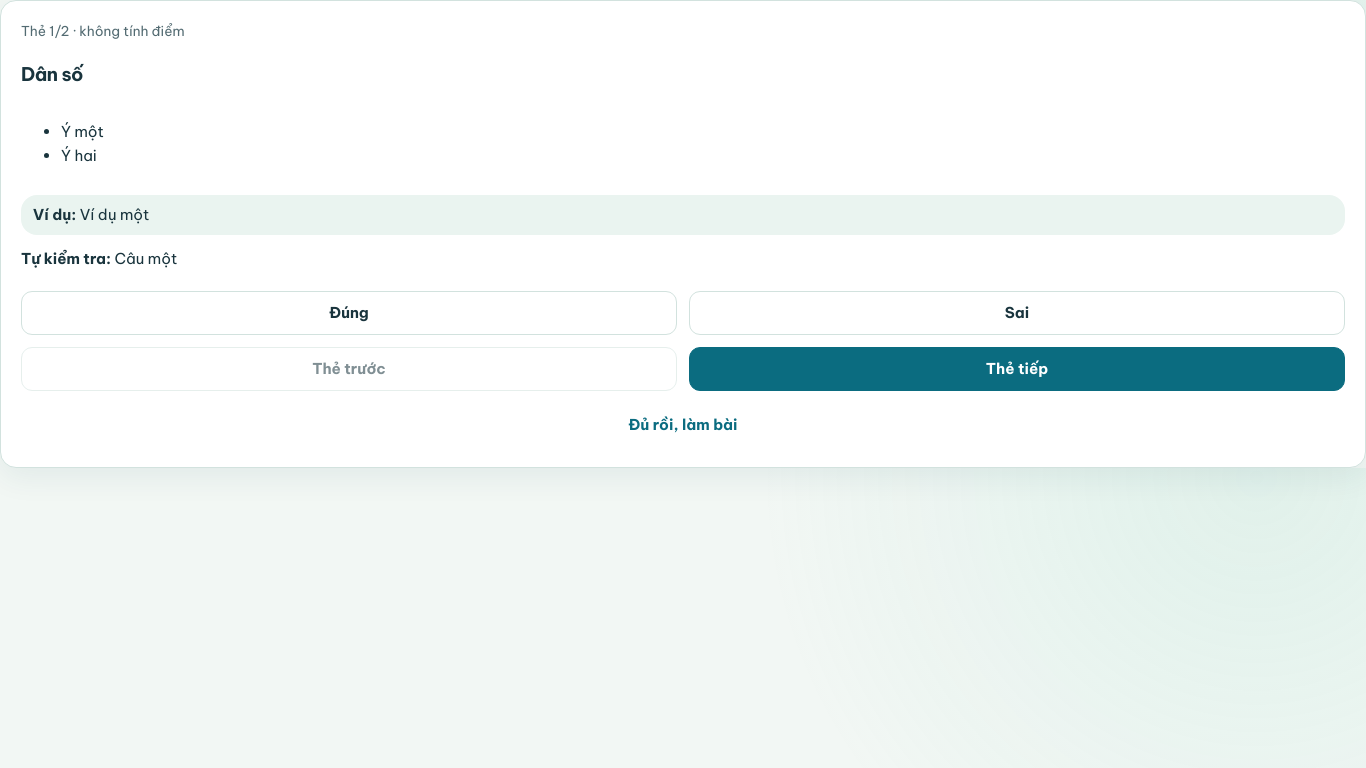
Test case: Quick review before the quiz › saves seen cards and the self-check result with an immediate explanation, then opens the quiz on 'Đủ rồi'
Later steps or results of the test are not shown.
Expected: the text "Thẻ 1/2 · không tính điểm" is shown, [21,22,185,40]
Click the button "Đúng" at (349, 313), box [21,291,677,335]
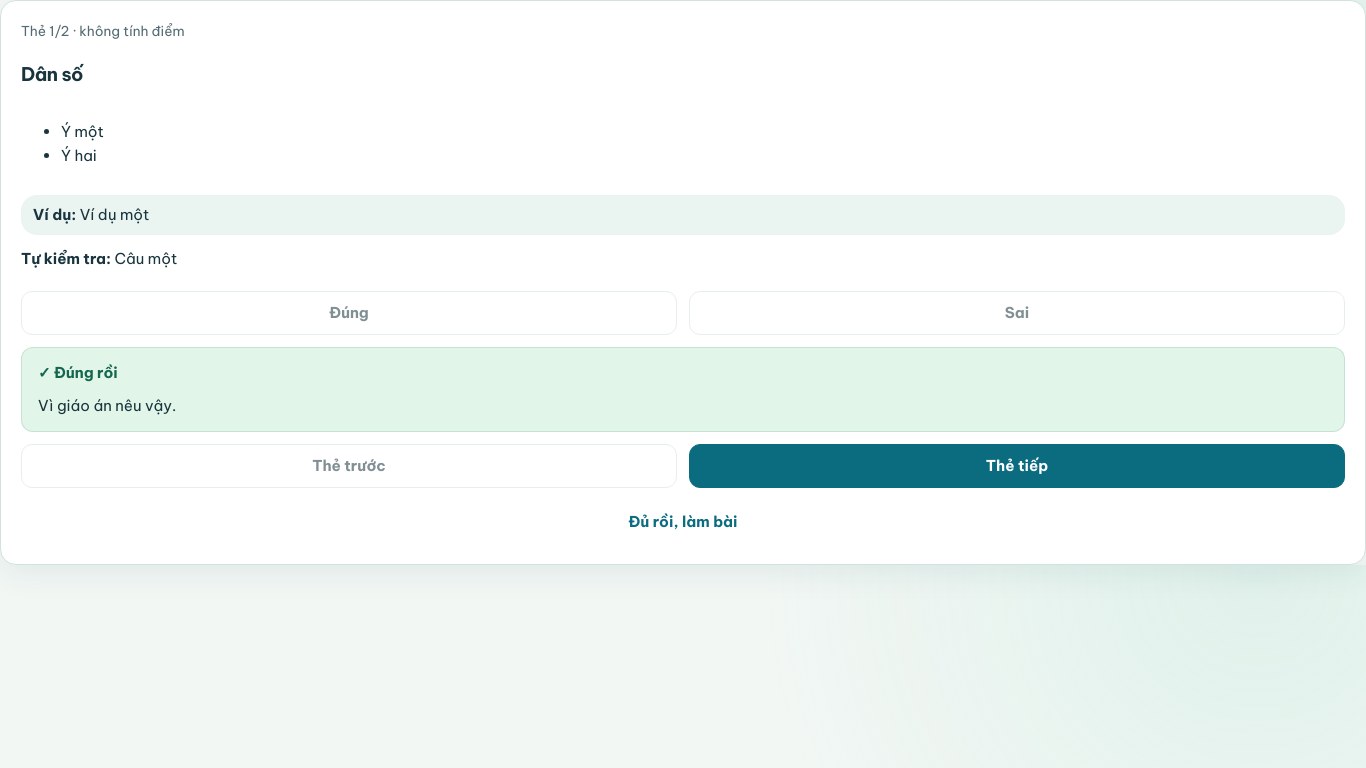
Expected: the text "Vì giáo án nêu vậy." is shown, [38,396,176,415]
